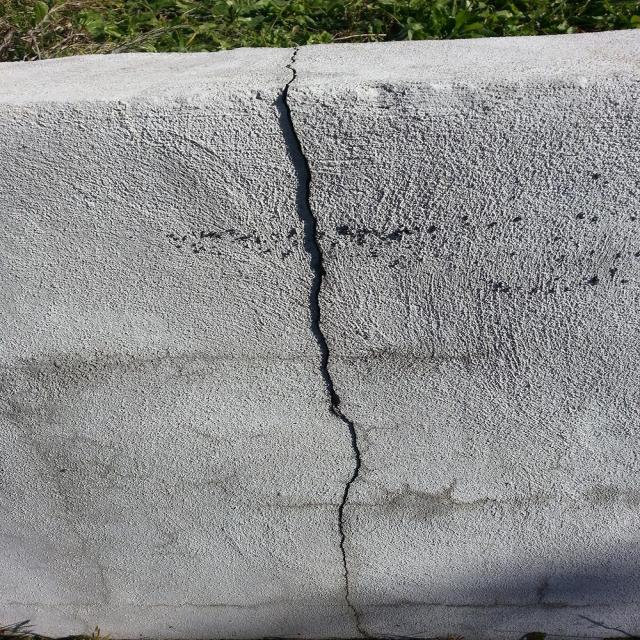crack: (273, 44, 363, 611)
